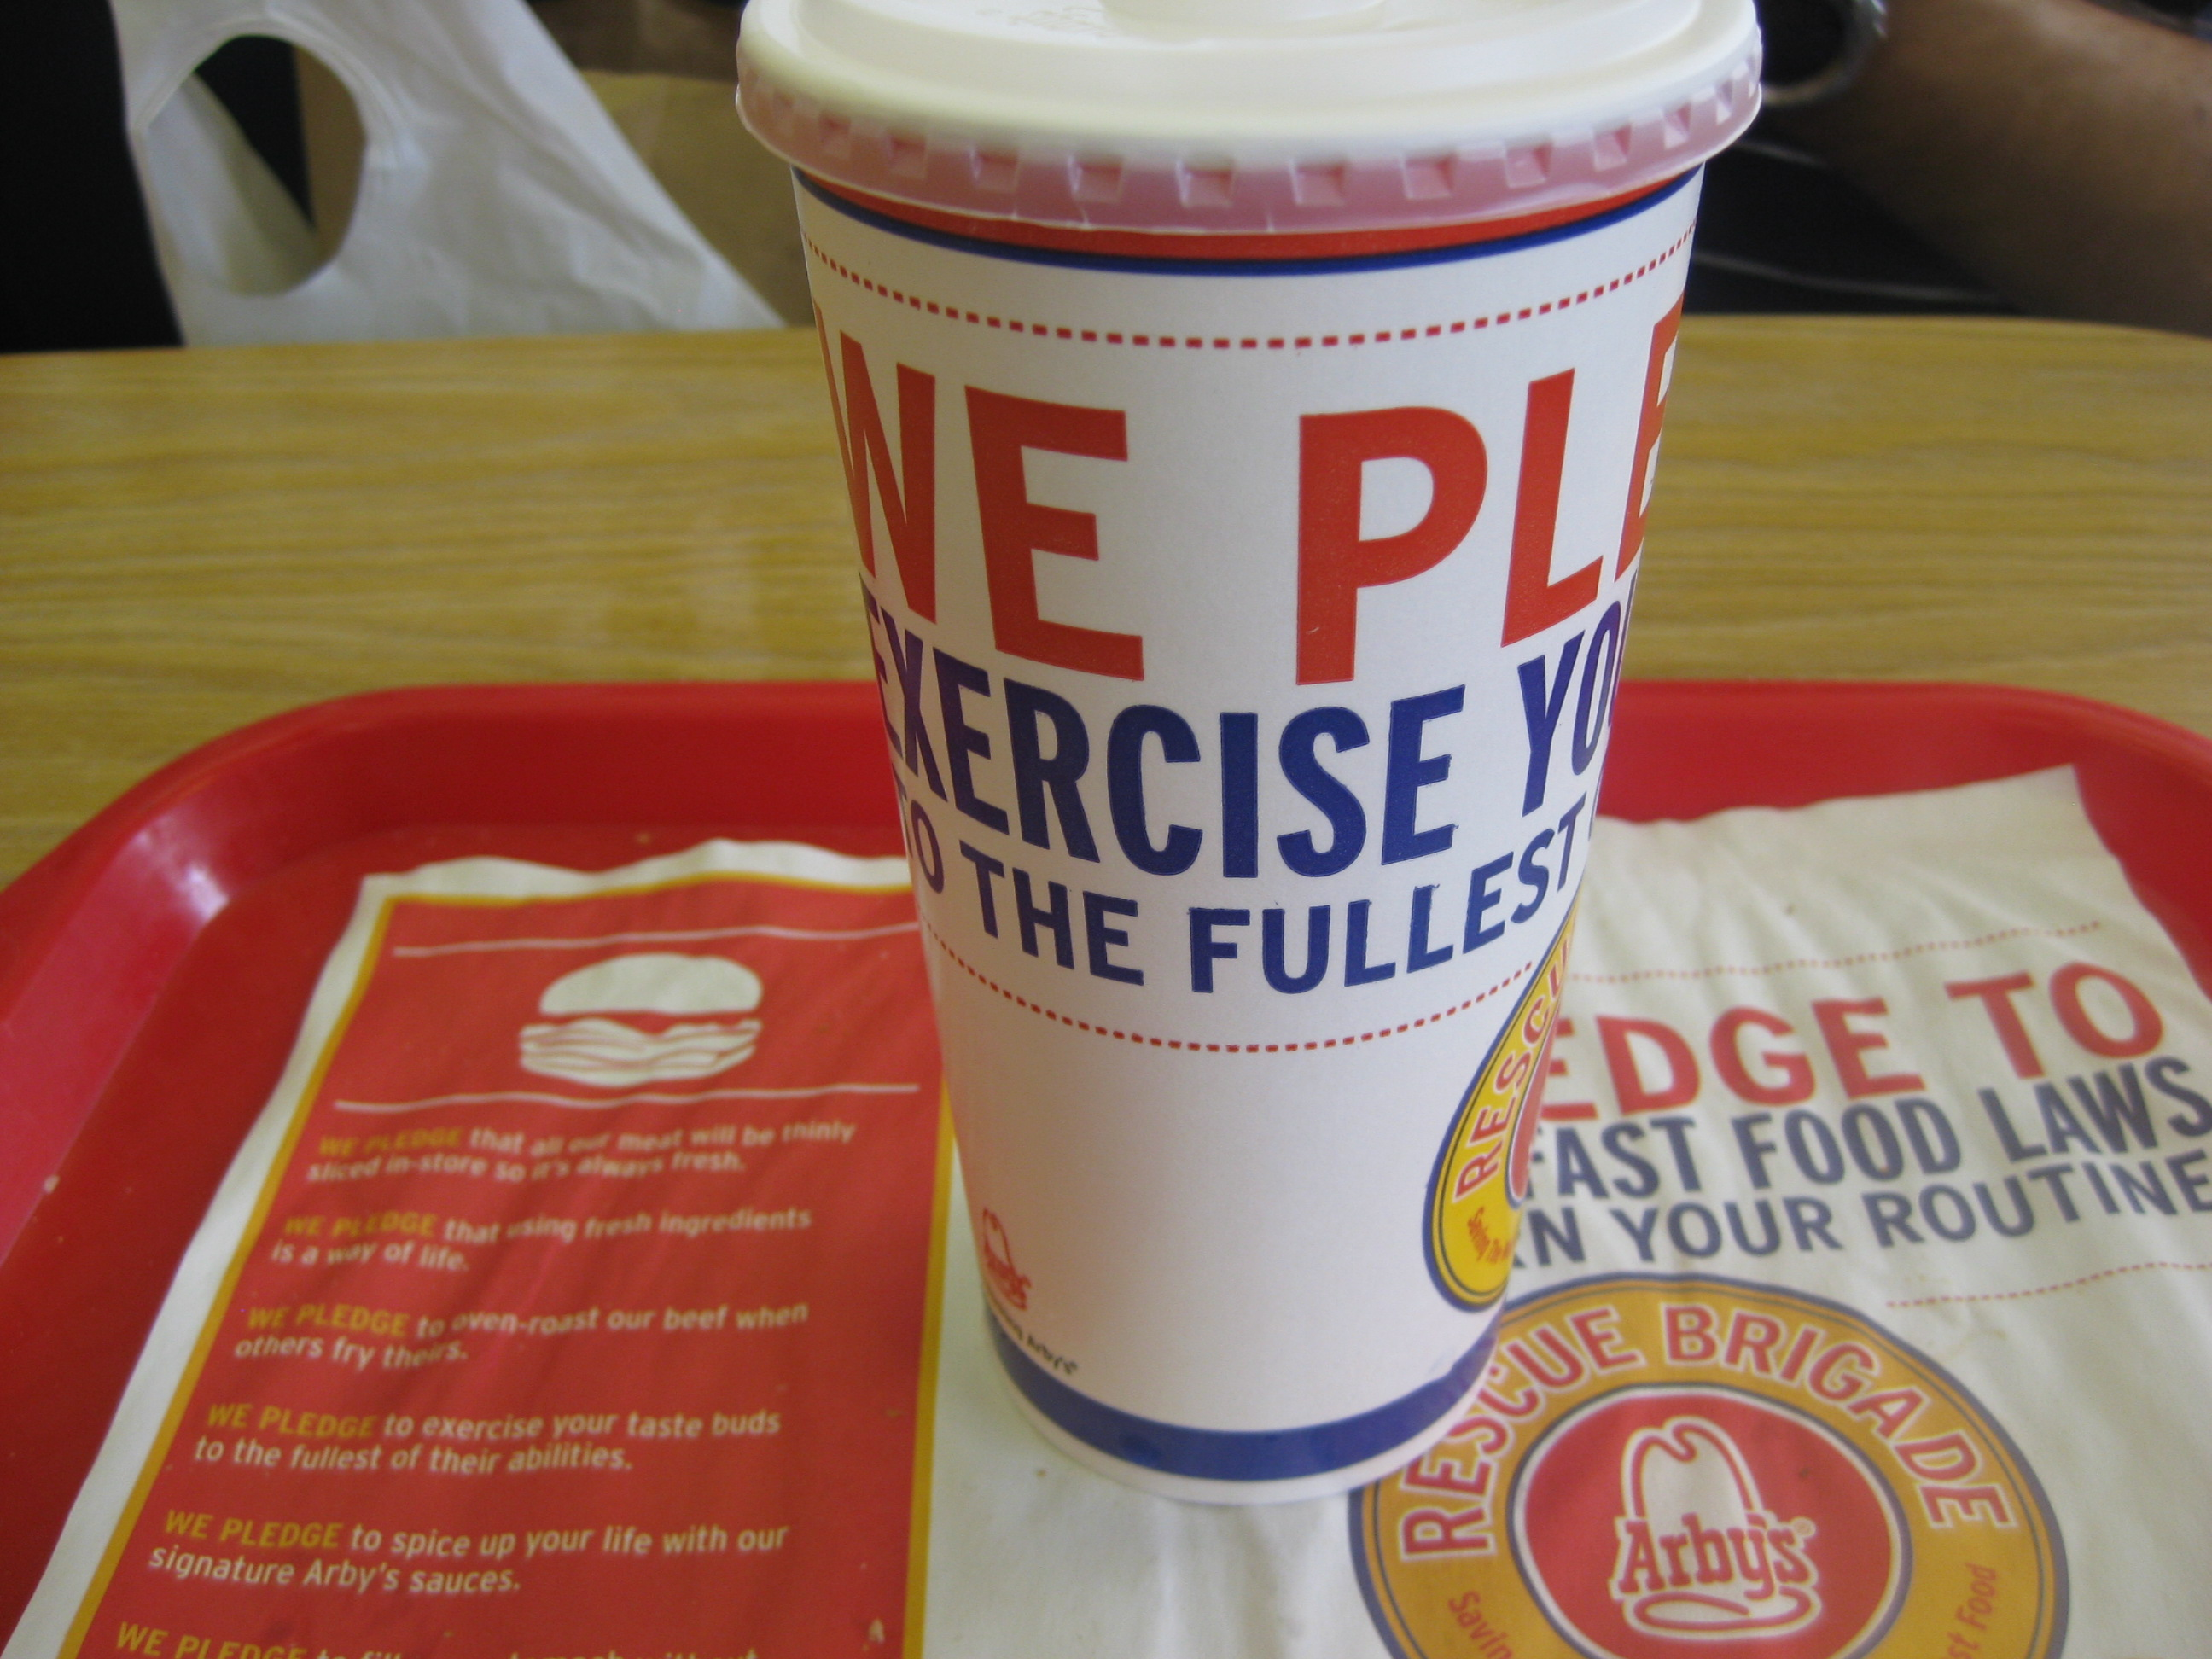drink: (729, 8, 1838, 1514)
